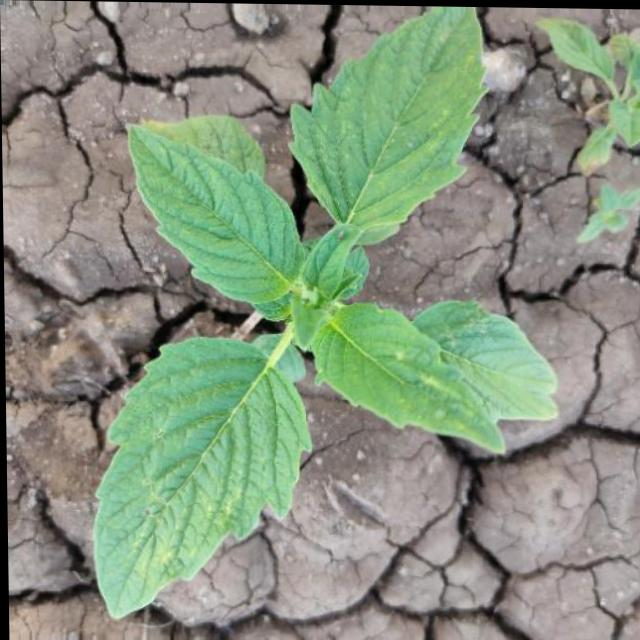crop: (59, 8, 573, 628)
